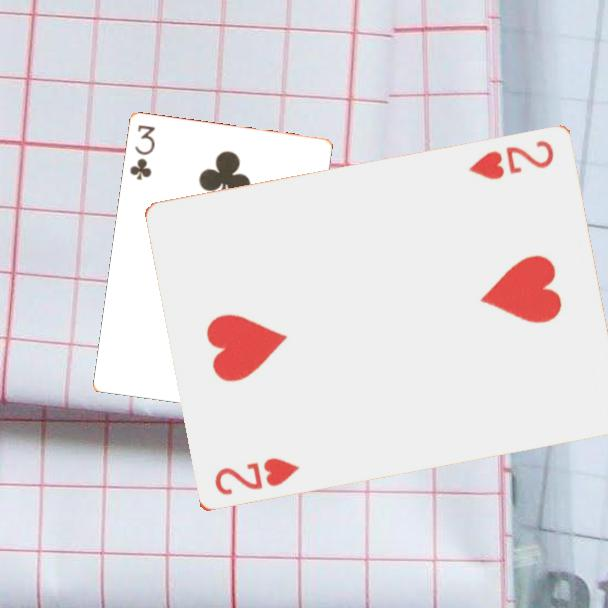c03: (127, 122, 158, 183)
h02: (464, 137, 557, 183), (210, 454, 302, 499)
